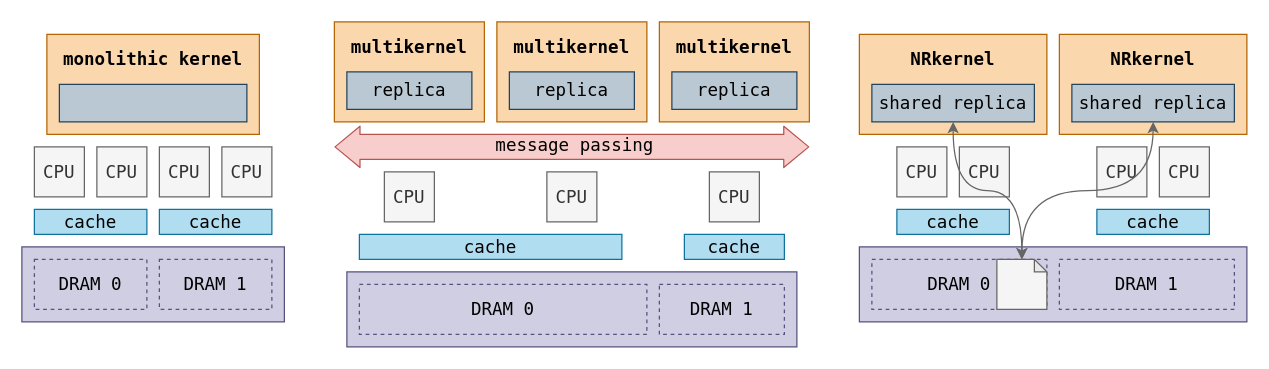
Image size: 1269x369. Some labels were removed from this diagram. Each missing label, with the box of its shape:
log: (996, 258, 1047, 309)
shared state: (58, 83, 247, 122)
